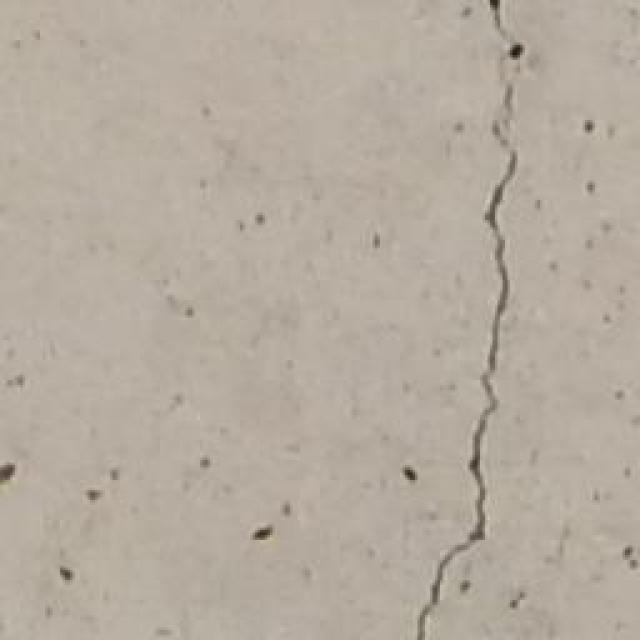concrete-crack: (415, 0, 525, 640)
